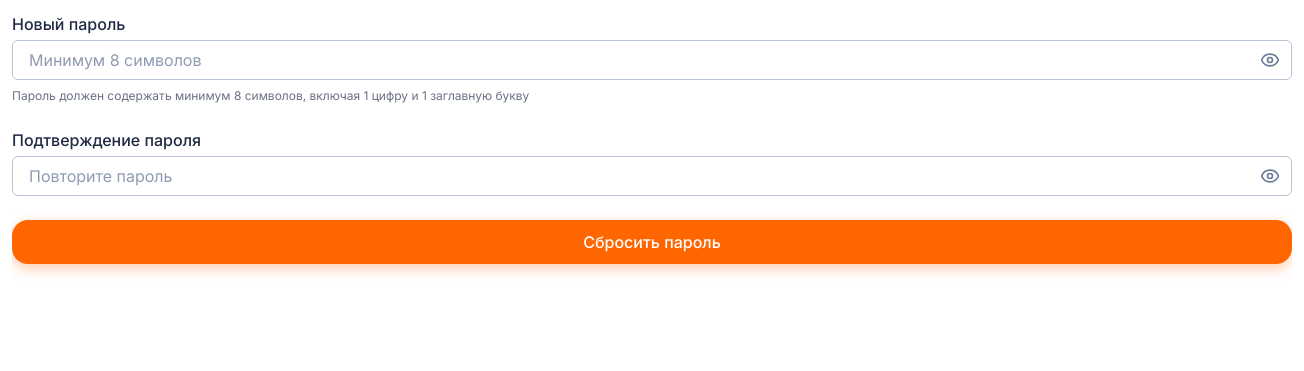
Scenario: PasswordResetConfirmForm › Error Handling › should show error for invalid token during confirmation (404)
This screenshot has width=1304, height=371.
Type "NewSecurePass123" into the password field labelled "Новый пароль" at [652, 60], box [12,40,1292,80]
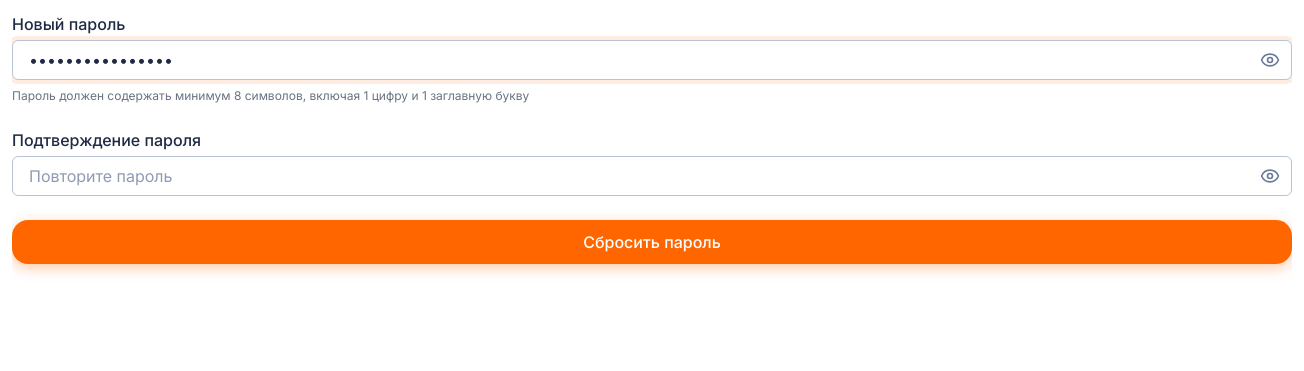
Type "NewSecurePass123" into the password field labelled "Подтверждение пароля" at [652, 176], box [12,156,1292,196]
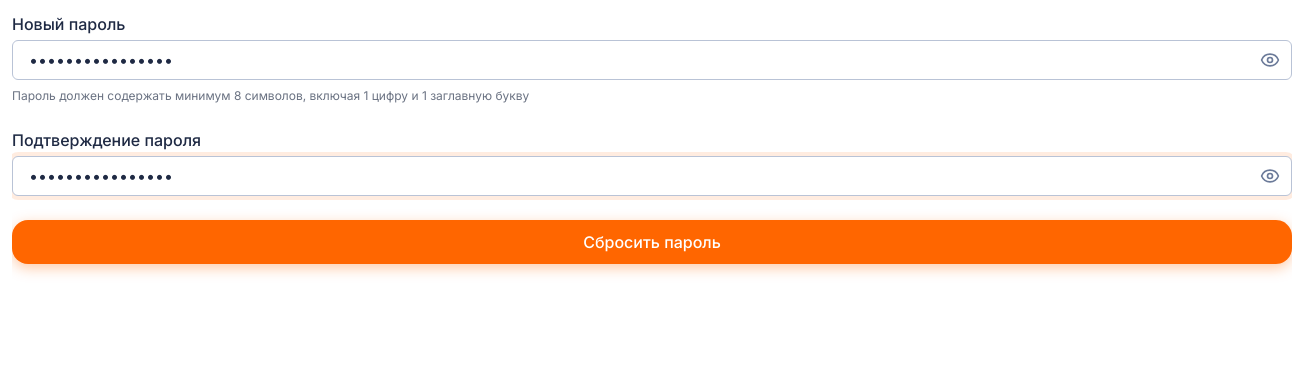
Click the button "Сбросить пароль" at [652, 242], box [12,220,1292,264]
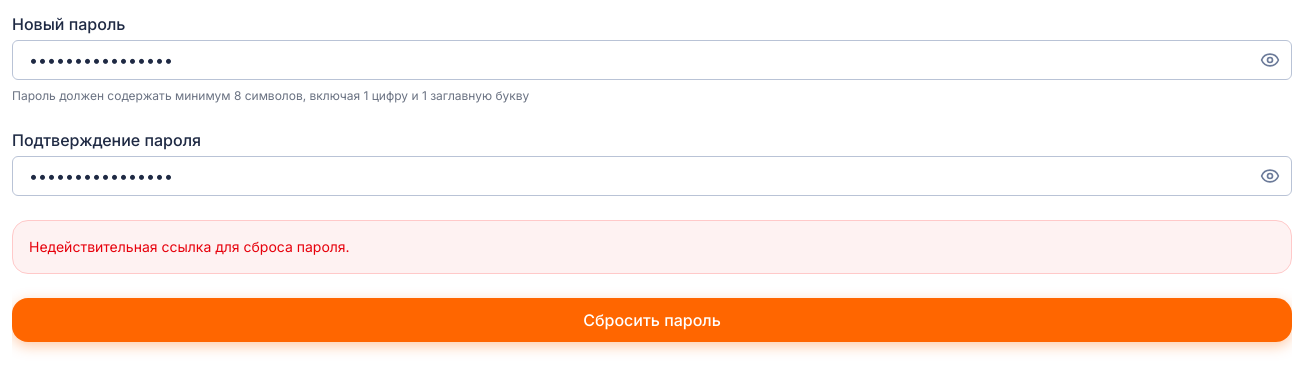
Result: the text "Недействительная ссылка для сброса пароля." is shown at [12,220,1292,274]
